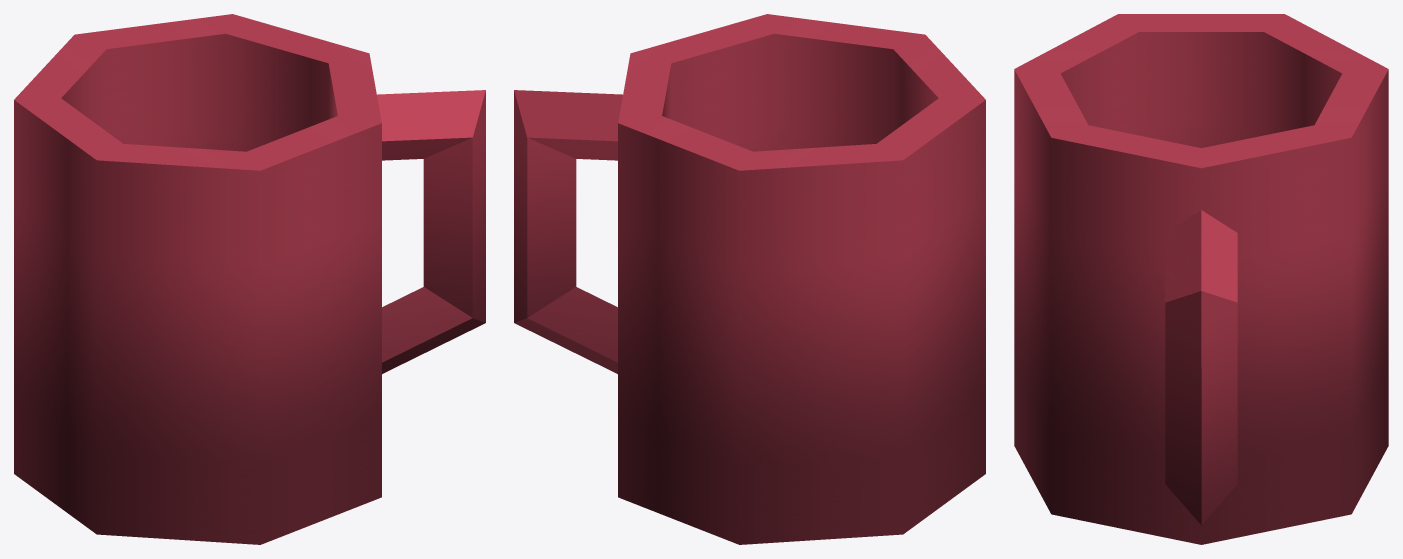
Rendered from Cup_02.fbx.
3 views of the same model, side by side, from view 1: azimuth 30°, elevation 25°; view 2: azimuth 150°, elevation 25°; view 3: azimuth 270°, elevation 25° (orthographic).
Parts seen in each view (by area): view 1: Cylinder008; view 2: Cylinder008; view 3: Cylinder008.
Part boxes in pixels (<box>): Cylinder008: <box>14,14,485,544</box>; Cylinder008: <box>514,14,985,544</box>; Cylinder008: <box>1014,14,1388,544</box>.
Size of the model in its own units: 21.1 by 17.52 by 15.79.
